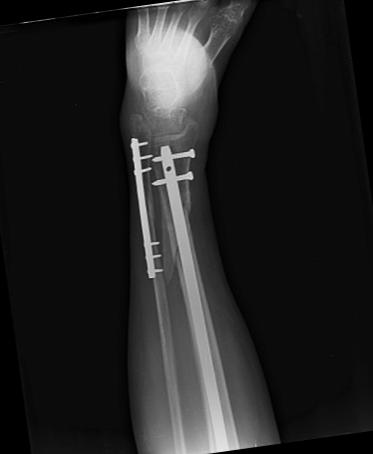fractured: (159, 185, 180, 286), (143, 186, 155, 240), (178, 184, 191, 225)
